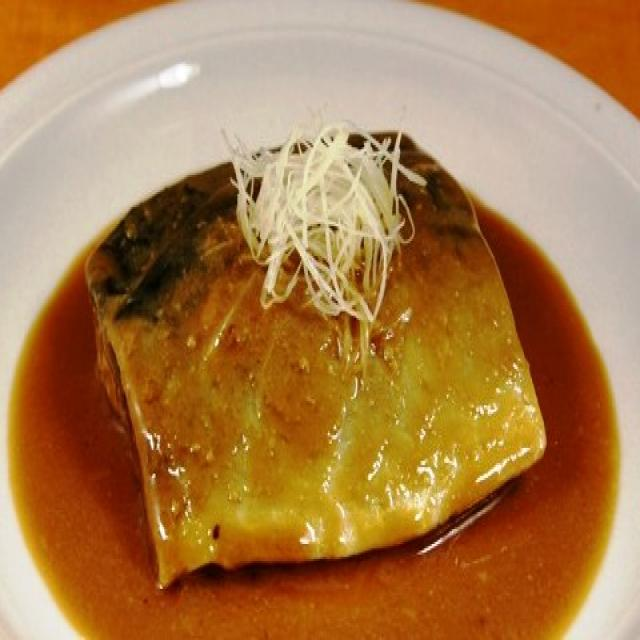熟制海鲜: (44, 38, 568, 628)
